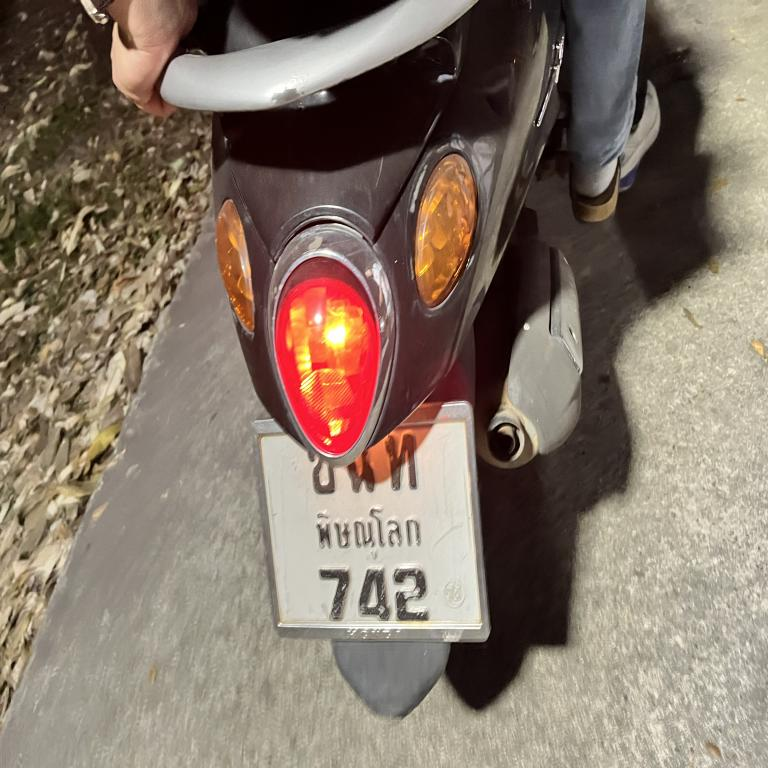license plate: (248, 397, 492, 646)
